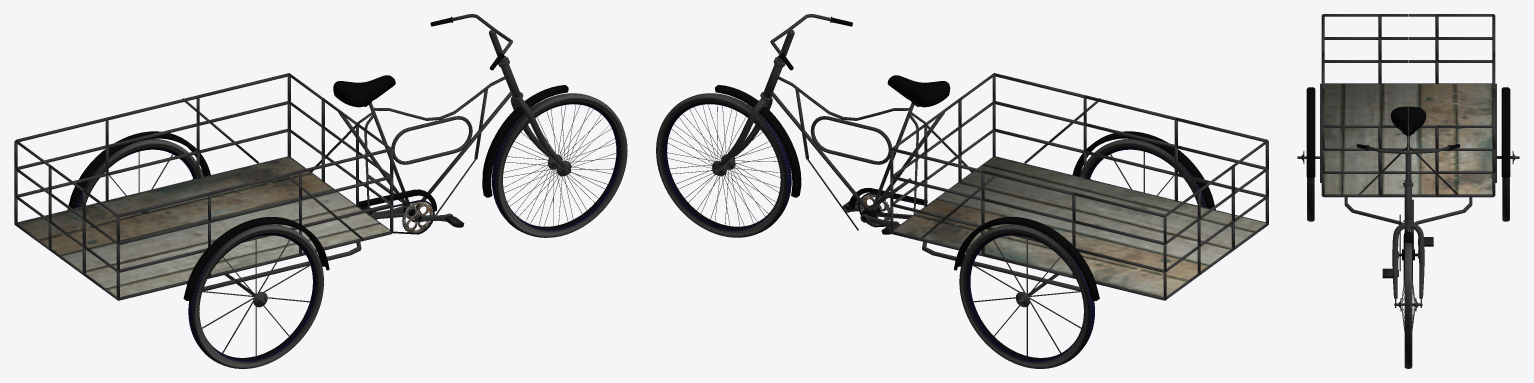
File: tricycle.glb
3 views of the same model, side by side, from view 1: azimuth 30°, elevation 25°; view 2: azimuth 150°, elevation 25°; view 3: azimuth 270°, elevation 25° (orthographic). The views are drawn at different scales.
Parts seen in each view (by area): view 1: Object_5, Object_3, Object_2, Object_4; view 2: Object_5, Object_3, Object_2, Object_4; view 3: Object_5, Object_3, Object_2, Object_4.
Boxes of the visible parts, x1,y1,x2,y2 form: Object_5: [17, 93, 627, 368]; Object_3: [14, 14, 616, 356]; Object_2: [67, 16, 568, 300]; Object_4: [109, 60, 522, 356]; Object_5: [656, 93, 1265, 368]; Object_3: [667, 14, 1268, 356]; Object_2: [715, 16, 1215, 300]; Object_4: [761, 60, 1197, 356]; Object_5: [1307, 84, 1509, 368]; Object_3: [1297, 14, 1519, 331]; Object_2: [1306, 87, 1510, 285]; Object_4: [1320, 83, 1496, 276].
Size of the model in its own units: 2826 by 1079 by 1165.
Materials: 3 (1 with a texture image).
